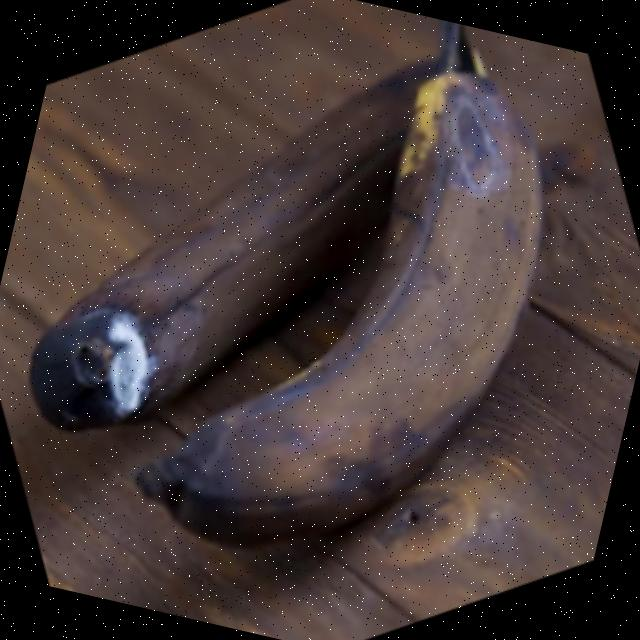Rotten: (119, 0, 592, 610), (5, 0, 449, 505)
